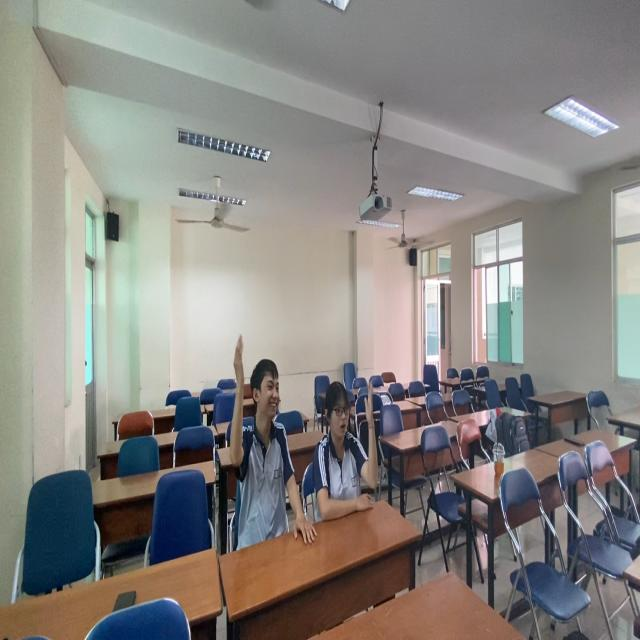raise_hand: (226, 330, 303, 545), (320, 368, 388, 532)
